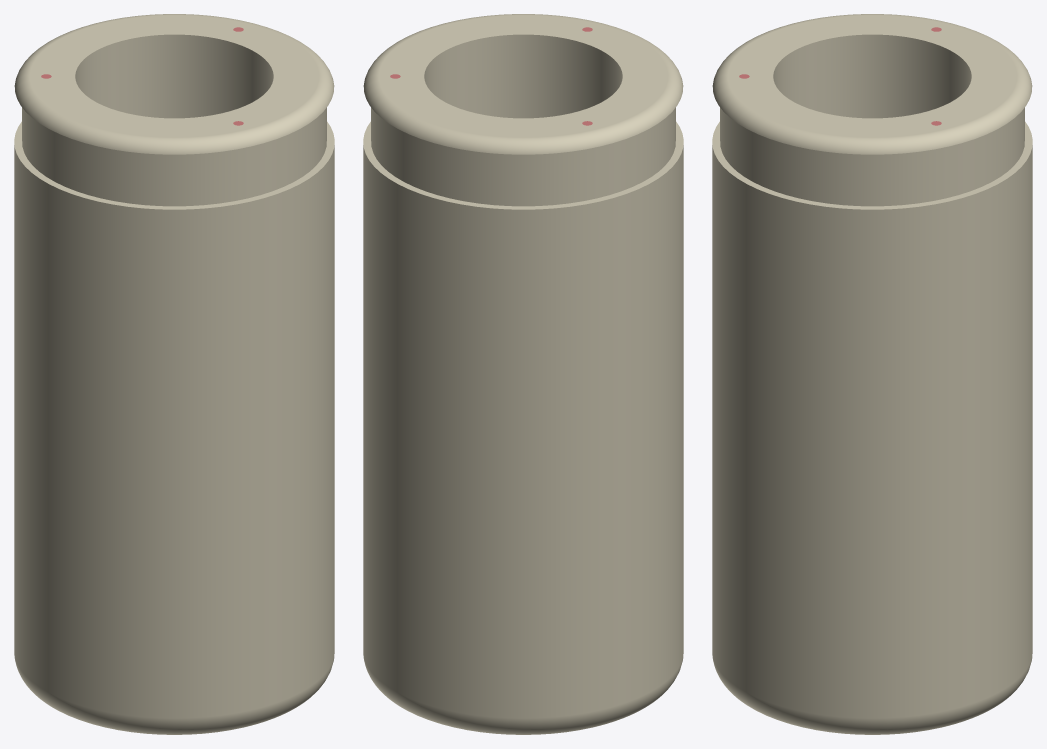
Rendered from step_02.glb.
The picture shows the model from 3 angles, left to right: view 1: azimuth 30°, elevation 25°; view 2: azimuth 150°, elevation 25°; view 3: azimuth 270°, elevation 25°; orthographic projection.
Parts seen in each view (by area): view 1: part__float foam fill; view 2: part__float foam fill; view 3: part__float foam fill.
Boxes of the visible parts, x1=… form: part__float foam fill: x1=14, y1=14, x2=334, y2=734; part__float foam fill: x1=363, y1=14, x2=683, y2=734; part__float foam fill: x1=712, y1=14, x2=1032, y2=734.
Bounding box in the file's own units: 488 × 1008 × 488.
